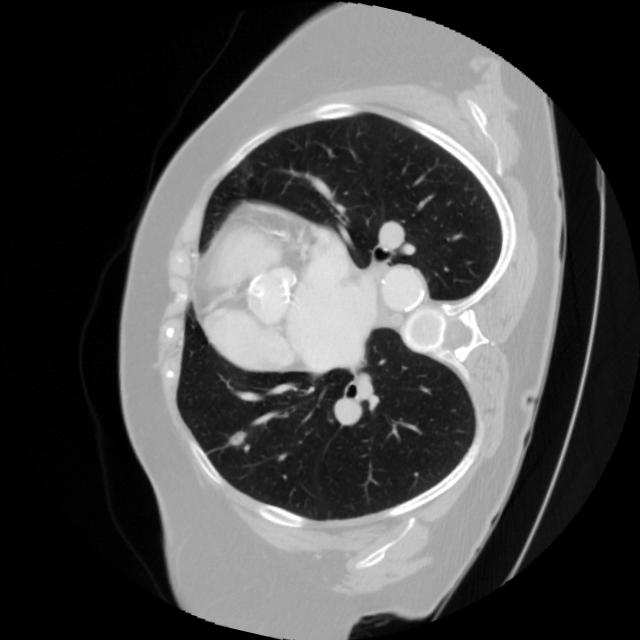nodule: (215, 418, 257, 460)
